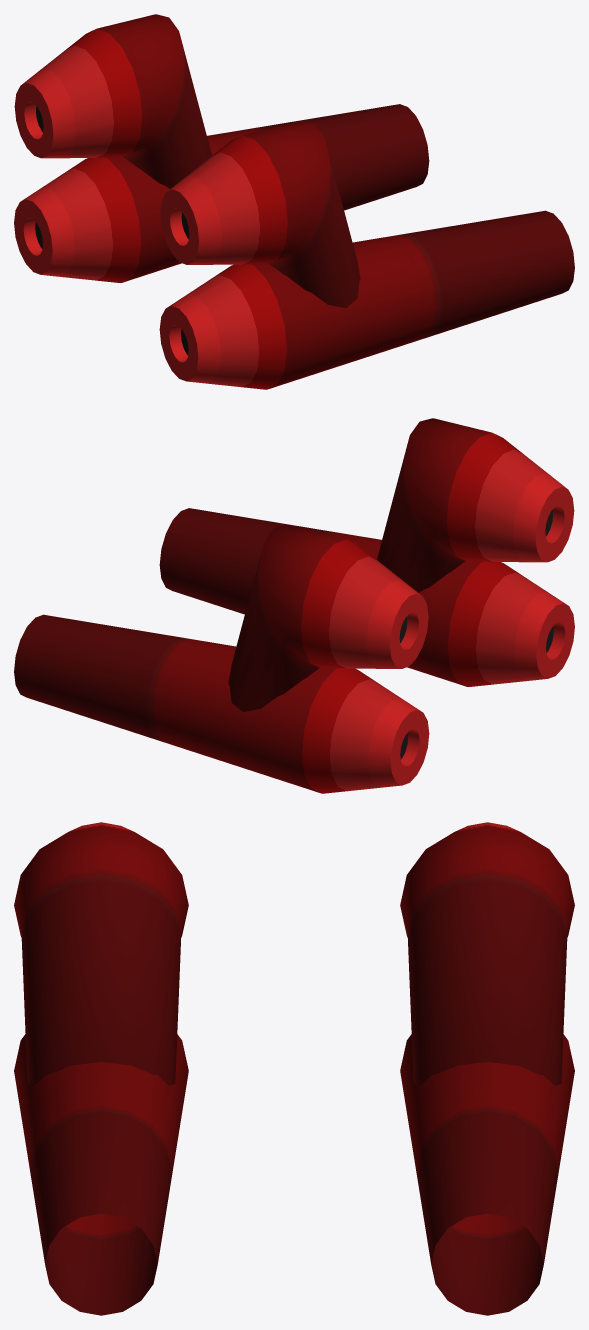
Rendered from BloodDruid_Exhaust.FBX.
3 renders of one model, top to bottom at view 1: azimuth 30°, elevation 25°; view 2: azimuth 150°, elevation 25°; view 3: azimuth 270°, elevation 25°, orthographic. The views are drawn at different scales.
Visible parts, largest first — view 1: Exhaust_BloodDruid; view 2: Exhaust_BloodDruid; view 3: Exhaust_BloodDruid.
Boxes of the visible parts, box(x1,y1,x2,y2) form: Exhaust_BloodDruid: box(14, 14, 574, 389); Exhaust_BloodDruid: box(14, 418, 574, 793); Exhaust_BloodDruid: box(14, 822, 574, 1315).
Size of the model in its own units: 73.35 by 46.03 by 71.76.
